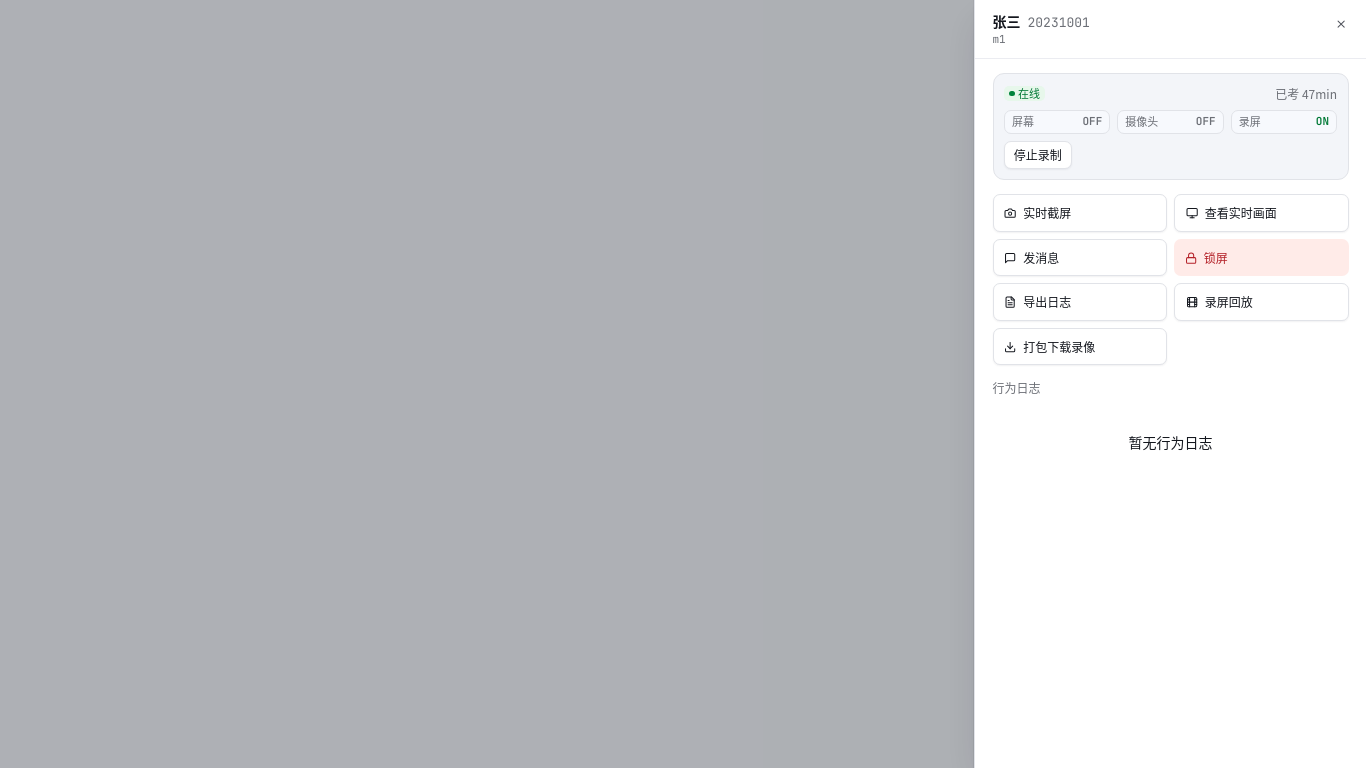
Test: student detail sheet manual recording › clears a previous stop failure after the next attempt succeeds
Click the button "停止录制": (1038, 155) x1=1004 y1=141 x2=1072 y2=169
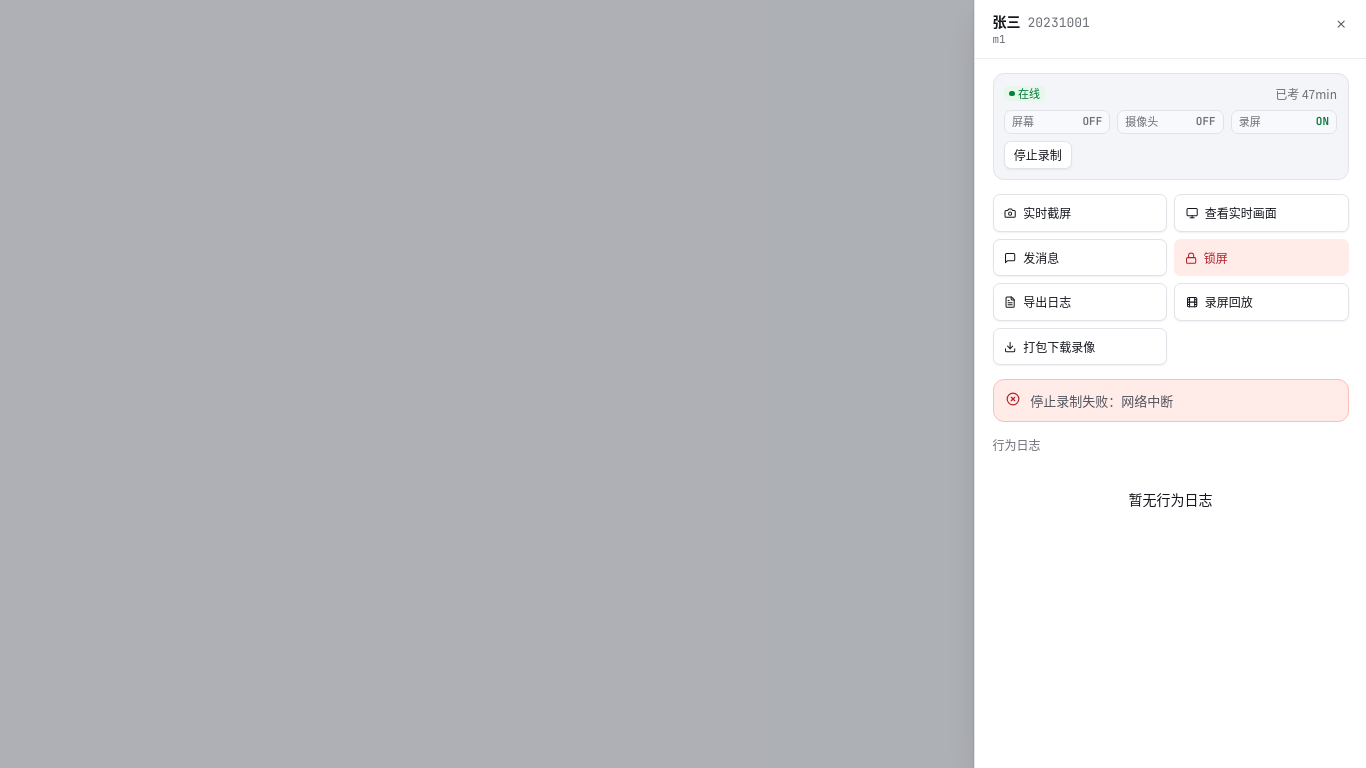
Check: the text "停止录制失败：网络中断" is shown, box x1=1030 y1=391 x2=1173 y2=410
Click the button "停止录制": (1038, 155) x1=1004 y1=141 x2=1072 y2=169
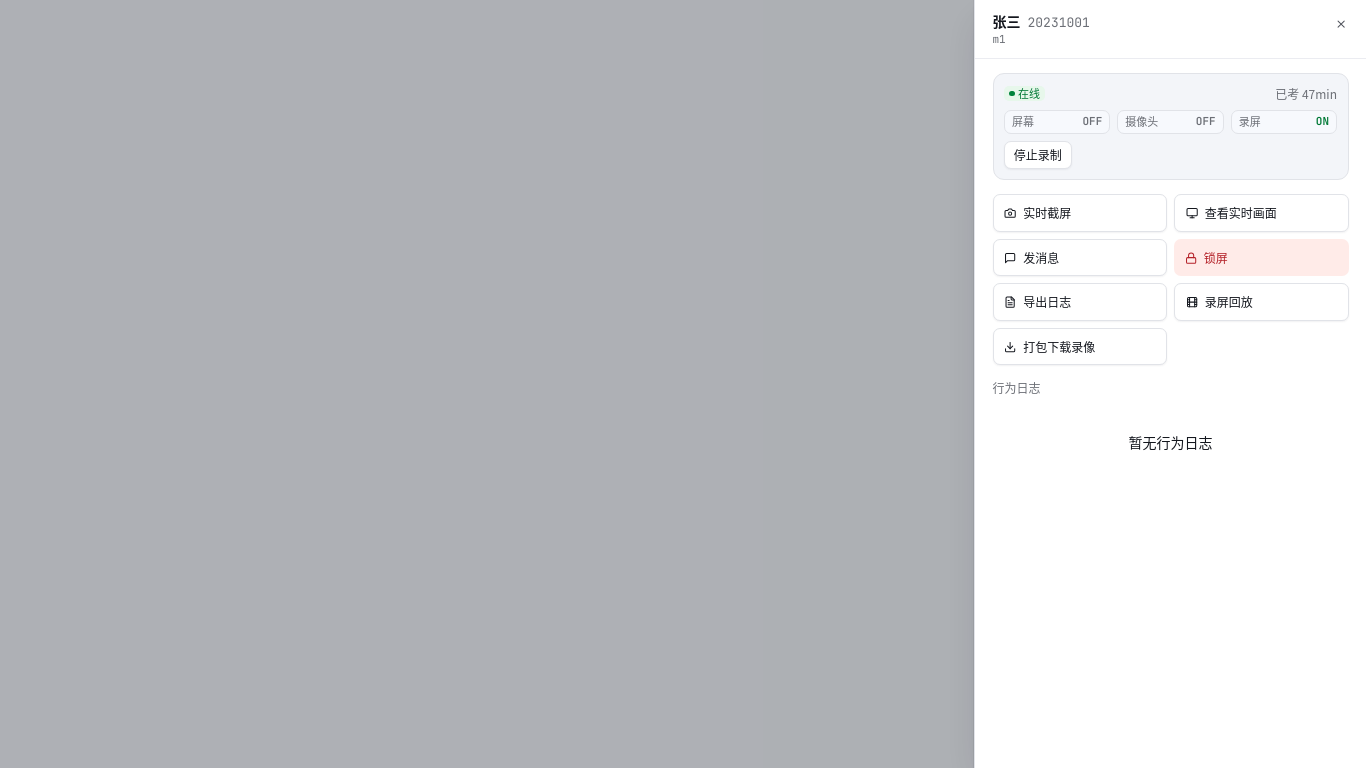
Check: the text "停止录制失败：网络中断" is gone
